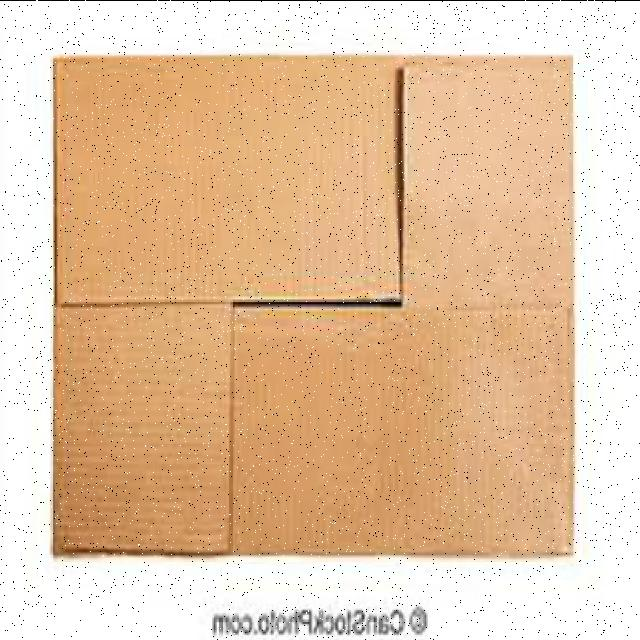normal: (49, 52, 583, 563)
